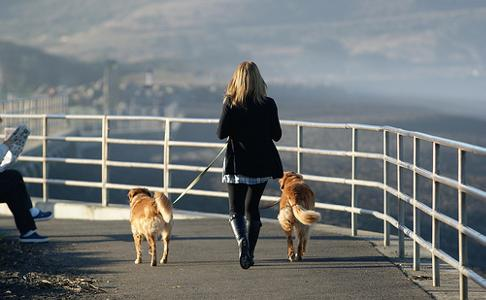person: (215, 62, 282, 269)
